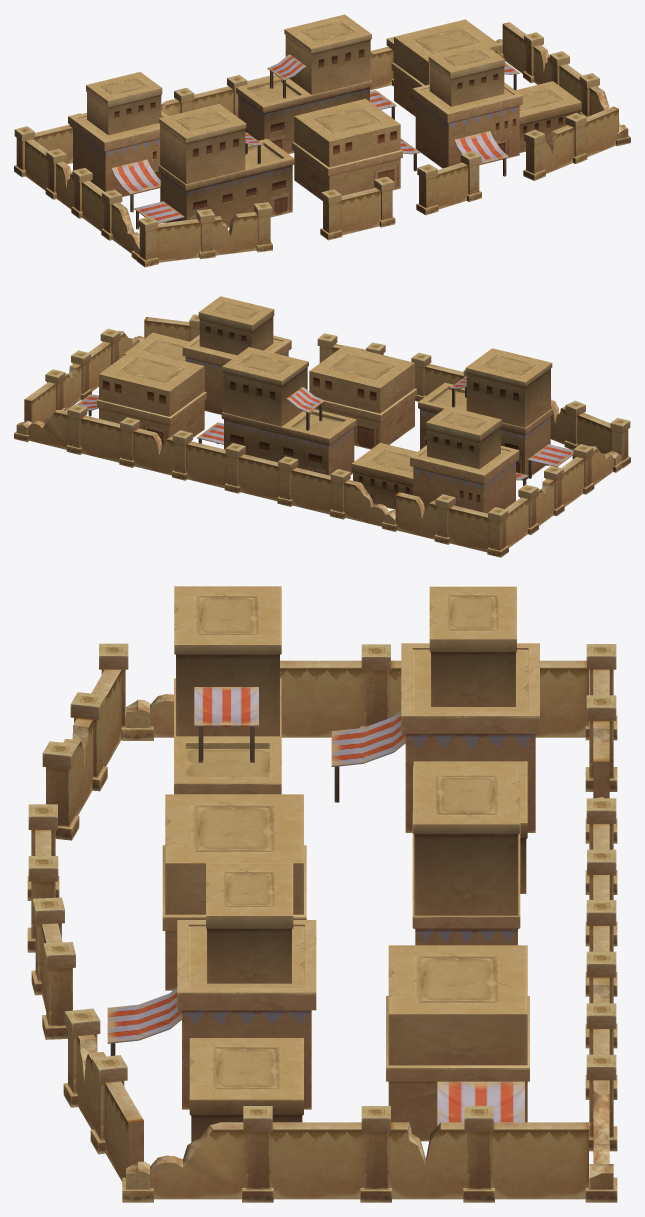
The model's file is qiangmian_08.fbx.
3 views of the same model, one above another, from view 1: azimuth 30°, elevation 25°; view 2: azimuth 150°, elevation 25°; view 3: azimuth 270°, elevation 25° (orthographic). The views are drawn at different scales.
Visible parts, largest first — view 1: qiangmian_08; view 2: qiangmian_08; view 3: qiangmian_08.
Boxes of the visible parts, x1=… form: qiangmian_08: x1=14, y1=14, x2=630, y2=267; qiangmian_08: x1=14, y1=296, x2=630, y2=557; qiangmian_08: x1=27, y1=586, x2=617, y2=1202.
Bounding box in the file's own units: 6588 × 1291 × 3452.
Materials: 1 (1 with a texture image).
